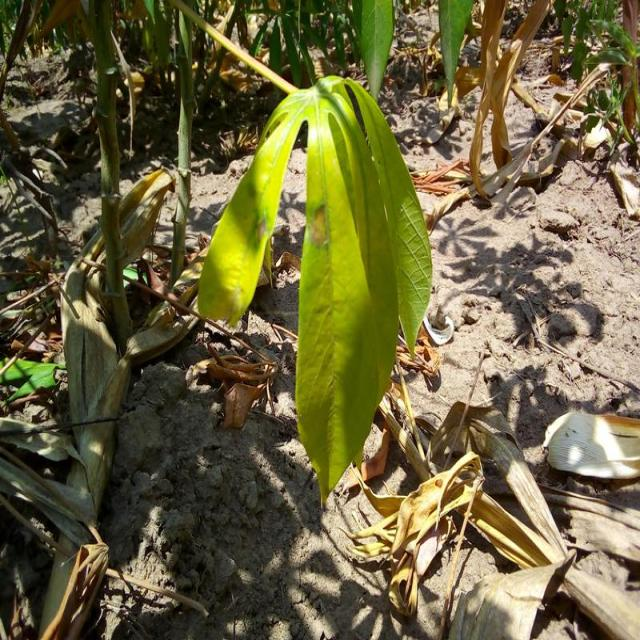cassava leaf: (196, 72, 433, 508)
